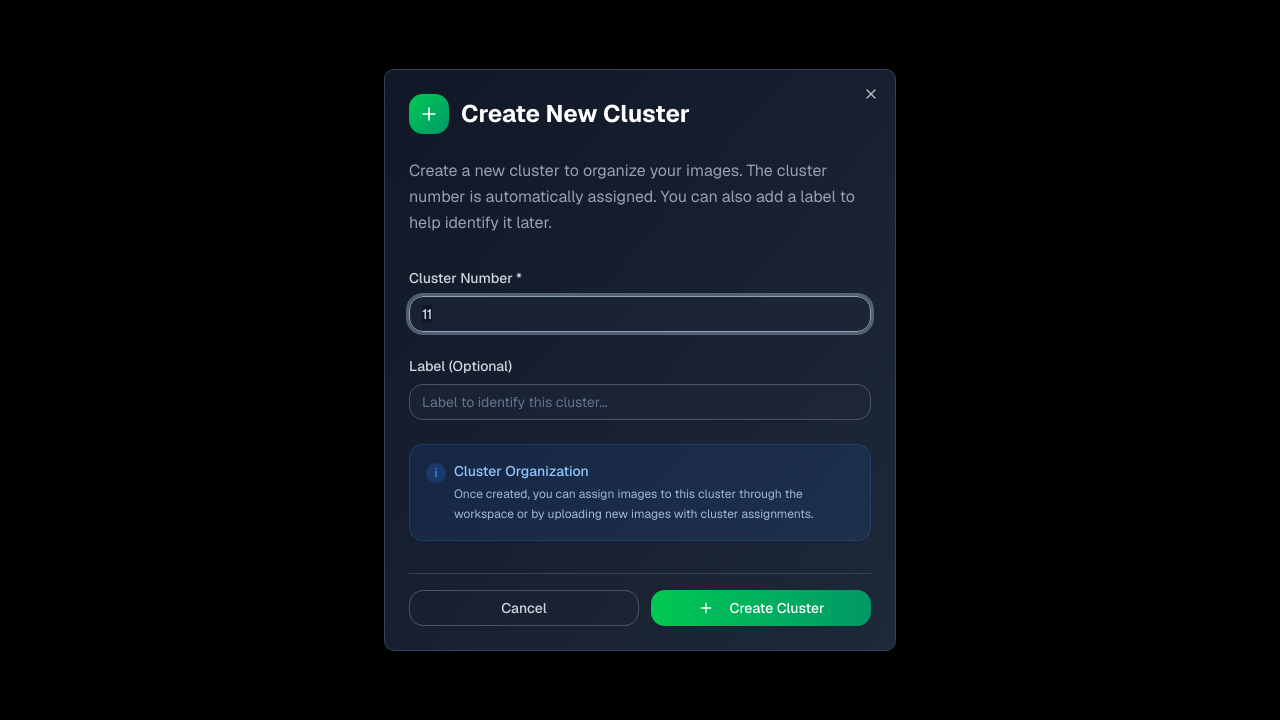
Test: CreateClusterDialog - fuzzy search › supports labels as objects with name property
The width and height of the screenshot is (1280, 720).
Type "Lab" into the field labelled "Label (Optional)" at (640, 402), box [409, 384, 871, 420]
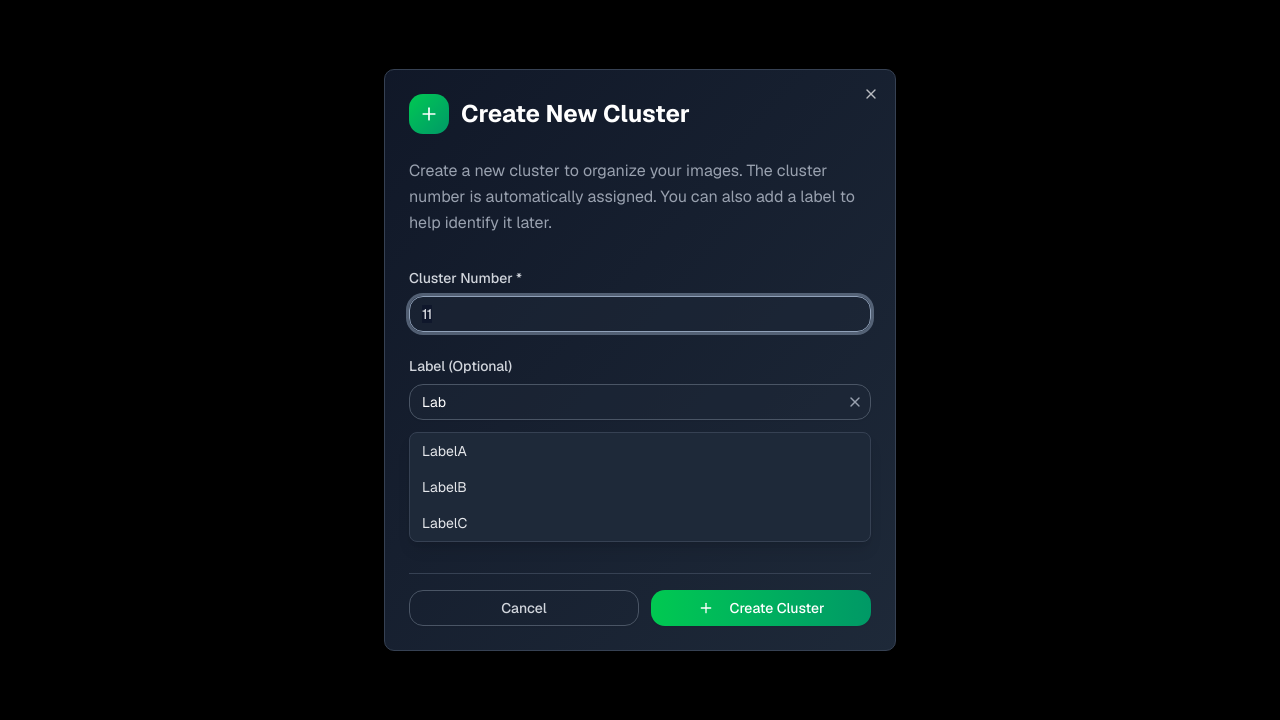
Check: the text "LabelC" is shown
Click the text "LabelC" at (445, 523), box [422, 514, 467, 532]
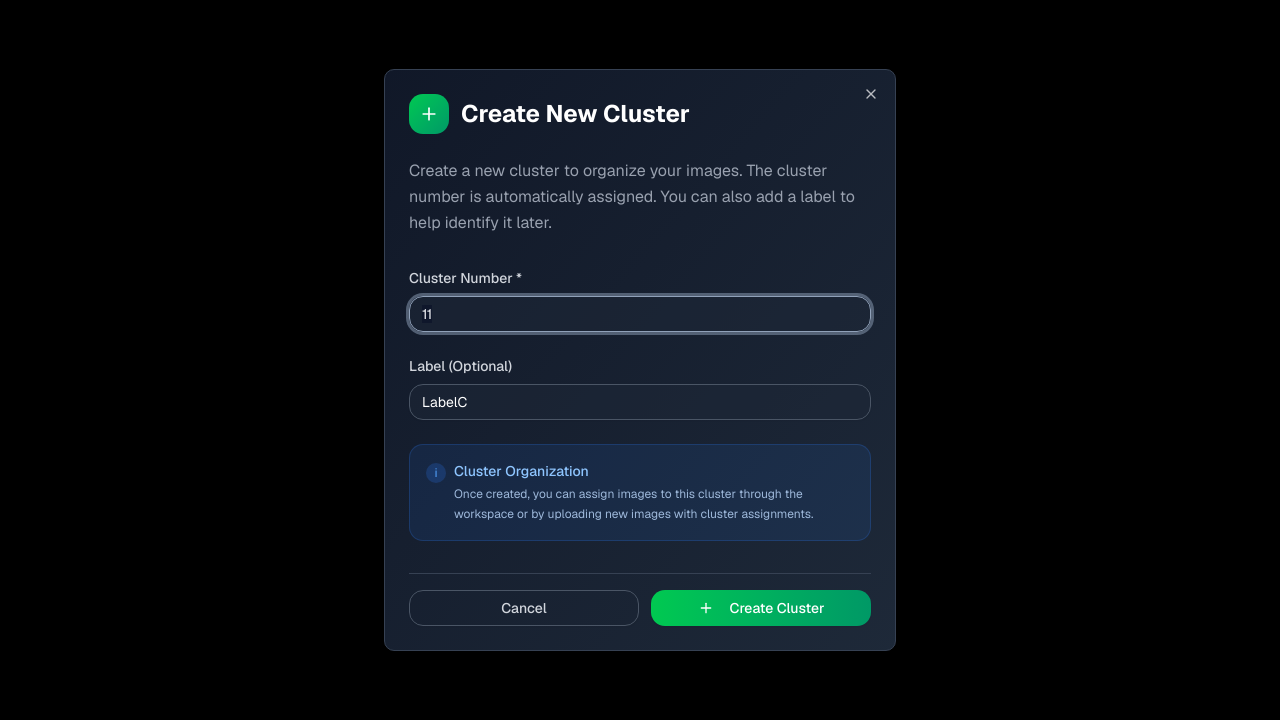
Check: the field labelled "Label (Optional)" holds "LabelC", box [409, 384, 871, 420]
